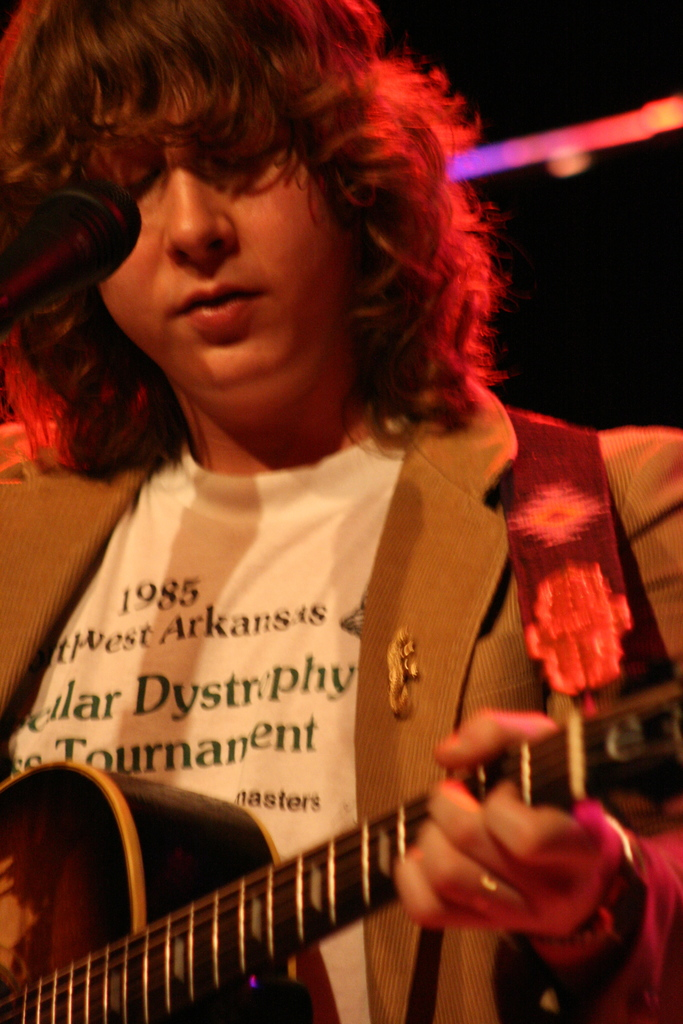Human-face: (99, 46, 348, 396)
